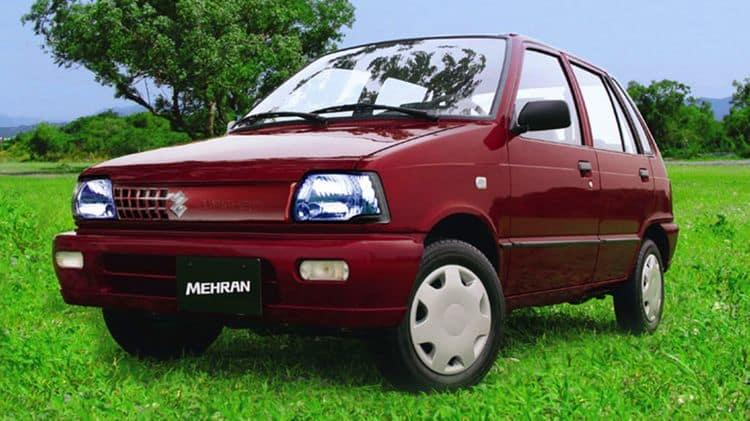Hatchback: (53, 23, 707, 387)
